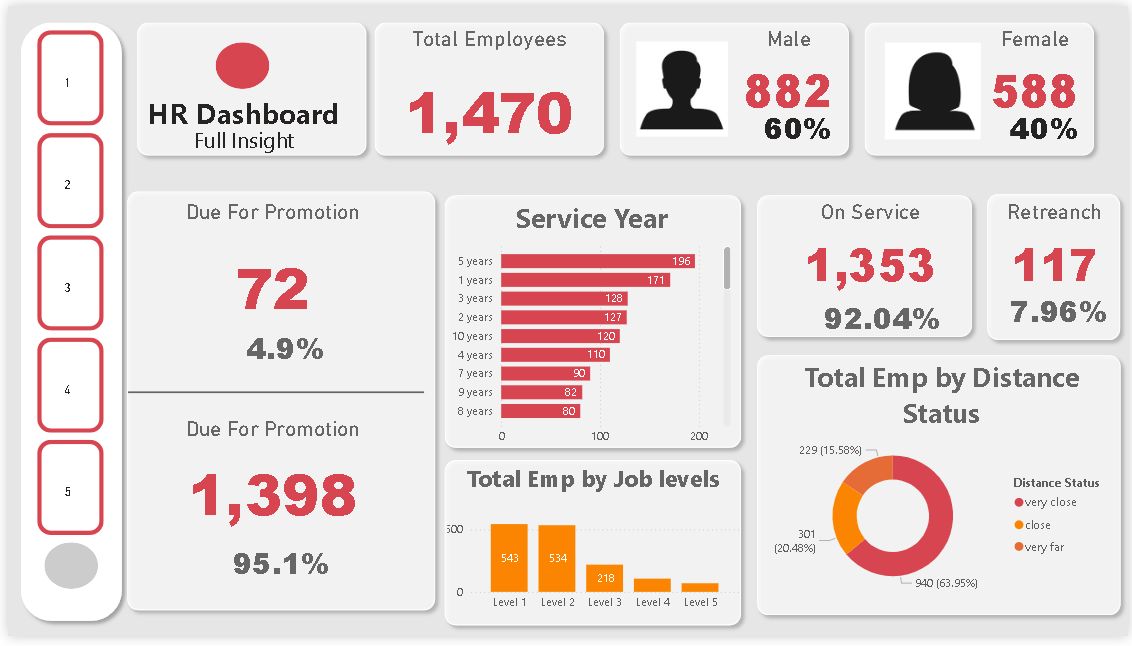

The page's visual inventory and layout, read from the dashboard file:
{"tool":"powerbi","page":{"name":"Page 1","canvas":[1280,720],"ordinal":0},"visuals":[{"type":"shape","box":[5,10,133.3,701.7],"z":0},{"type":"shape","box":[138.3,10,280,170],"z":1000},{"type":"shape","box":[410,10,280,170],"z":2000},{"type":"shape","box":[690,10,280,170],"z":3000},{"type":"shape","box":[970,10,280,170],"z":4000},{"type":"shape","box":[126.7,203.3,370,496.7],"z":5000},{"type":"shape","box":[490,206.7,356.7,306.7],"z":6000},{"type":"shape","box":[490,510,356.7,206.7],"z":7000},{"type":"shape","box":[846.7,206.7,263.3,180],"z":8000},{"type":"shape","box":[846.7,390,433.3,315],"z":9000},{"type":"shape","box":[1110,205,170,185],"z":10000},{"type":"textbox","box":[141.7,95,256.7,55],"z":11000},{"type":"textbox","box":[141.7,131.7,256.7,48.3],"z":12000},{"type":"shape","box":[236.7,41.7,61.7,53.3],"z":13000},{"type":"cardVisual","title":"Total Employees","fields":{"Data":["CountNonNull(HR Analytics Data.Age)"]},"box":[418.3,23.3,263.3,150],"z":14000},{"type":"cardVisual","title":"Female","fields":{"Data":["All Measure.Female"]},"box":[1083.3,23.3,181.7,120],"z":15000},{"type":"cardVisual","title":"Male","fields":{"Data":["All Measure.Male"]},"box":[801.7,23.3,181.7,120],"z":16000},{"type":"cardVisual","fields":{"Data":["All Measure.%Male"]},"box":[846.7,90,136.7,83.3],"z":17000},{"type":"cardVisual","fields":{"Data":["All Measure.%female"]},"box":[1128.3,90,136.7,83.3],"z":18000},{"type":"cardVisual","title":"Due For Promotion","fields":{"Data":["All Measure.Due for Promotion"]},"box":[153.3,221.7,300,168.3],"z":19000},{"type":"cardVisual","fields":{"Data":["All Measure.% due for promotion"]},"box":[255,321.7,155,130],"z":20000},{"type":"cardVisual","title":"Due For Promotion","fields":{"Data":["All Measure.Not_Due"]},"box":[153.3,468.3,300,145],"z":21000},{"type":"cardVisual","fields":{"Data":["All Measure.%not_due"]},"box":[240,581.7,166.7,100],"z":22000},{"type":"shape","box":[136.7,291.7,338.3,300],"z":23000},{"type":"barChart","title":"Service Year","fields":{"Category":["HR Analytics Data.Service year"],"Y":["All Measure.Total Emp"]},"box":[503.3,221.7,328.3,288.3],"z":24000},{"type":"columnChart","fields":{"Y":["All Measure.Total Emp"],"Category":["HR Analytics Data.Job levels"]},"box":[496.7,521.7,343.3,178.3],"z":25000},{"type":"cardVisual","title":"On Service","fields":{"Data":["All Measure.On Service"]},"box":[861.7,221.7,248.3,120],"z":26000},{"type":"cardVisual","fields":{"Data":["All Measure.%on service"]},"box":[915,306.7,206.7,83.3],"z":27000},{"type":"cardVisual","title":"Retreanch","fields":{"Data":["All Measure.Retrenced"]},"box":[1116.7,221.7,158.3,120],"z":28000},{"type":"cardVisual","fields":{"Data":["All Measure.%retrenched"]},"box":[1128.3,300,151.7,83.3],"z":29000},{"type":"donutChart","fields":{"Category":["HR Analytics Data.Distance Status"],"Y":["All Measure.Total Emp"]},"box":[868.3,403.3,396.7,278.3],"z":30000},{"type":"image","box":[710,35,120,118.3],"z":31000},{"type":"image","box":[995,36.7,121.7,120],"z":32000},{"type":"advancedSlicerVisual","fields":{"Values":["HR Analytics Data.Education"]},"box":[28.3,23.3,86.7,588.3],"z":33000},{"type":"shape","box":[41.7,613.3,61.7,53.3],"z":33001}]}

Visuals, with their boxes in screenshot pixels (x1, y1, x2, y2), scaled from the page's 1280x720 canvas onto the 1132x646 screenshot:
shape: box(4, 9, 122, 639)
shape: box(122, 9, 370, 162)
shape: box(363, 9, 610, 162)
shape: box(610, 9, 858, 162)
shape: box(858, 9, 1105, 162)
shape: box(112, 182, 439, 628)
shape: box(433, 185, 749, 461)
shape: box(433, 458, 749, 643)
shape: box(749, 185, 982, 347)
shape: box(749, 350, 1131, 633)
shape: box(982, 184, 1131, 350)
textbox: box(125, 85, 352, 135)
textbox: box(125, 118, 352, 162)
shape: box(209, 37, 264, 85)
"Total Employees" cardVisual: box(370, 21, 603, 155)
"Female" cardVisual: box(958, 21, 1119, 129)
"Male" cardVisual: box(709, 21, 870, 129)
cardVisual - All Measure.%Male: box(749, 81, 870, 155)
cardVisual - All Measure.%female: box(998, 81, 1119, 155)
"Due For Promotion" cardVisual: box(136, 199, 401, 350)
cardVisual - All Measure.% due for promotion: box(226, 289, 363, 405)
"Due For Promotion" cardVisual: box(136, 420, 401, 550)
cardVisual - All Measure.%not_due: box(212, 522, 360, 612)
shape: box(121, 262, 420, 531)
"Service Year" barChart: box(445, 199, 735, 458)
columnChart - All Measure.Total Emp x HR Analytics Data.Job levels: box(439, 468, 743, 628)
"On Service" cardVisual: box(762, 199, 982, 307)
cardVisual - All Measure.%on service: box(809, 275, 992, 350)
"Retreanch" cardVisual: box(988, 199, 1128, 307)
cardVisual - All Measure.%retrenched: box(998, 269, 1131, 344)
donutChart - HR Analytics Data.Distance Status x All Measure.Total Emp: box(768, 362, 1119, 612)
image: box(628, 31, 734, 138)
image: box(880, 33, 988, 141)
advancedSlicerVisual - HR Analytics Data.Education: box(25, 21, 102, 549)
shape: box(37, 550, 91, 598)
